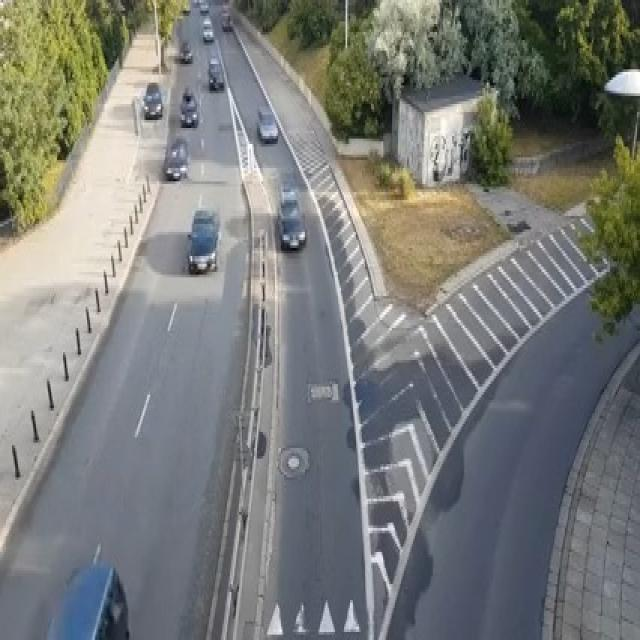car: (186, 205, 221, 272), (276, 184, 306, 251), (164, 136, 189, 179), (255, 104, 278, 141), (141, 80, 162, 117), (179, 86, 198, 126), (207, 56, 224, 88), (179, 40, 192, 61), (221, 11, 231, 29), (202, 27, 214, 40), (201, 16, 212, 29), (198, 0, 209, 11), (181, 0, 189, 13)
